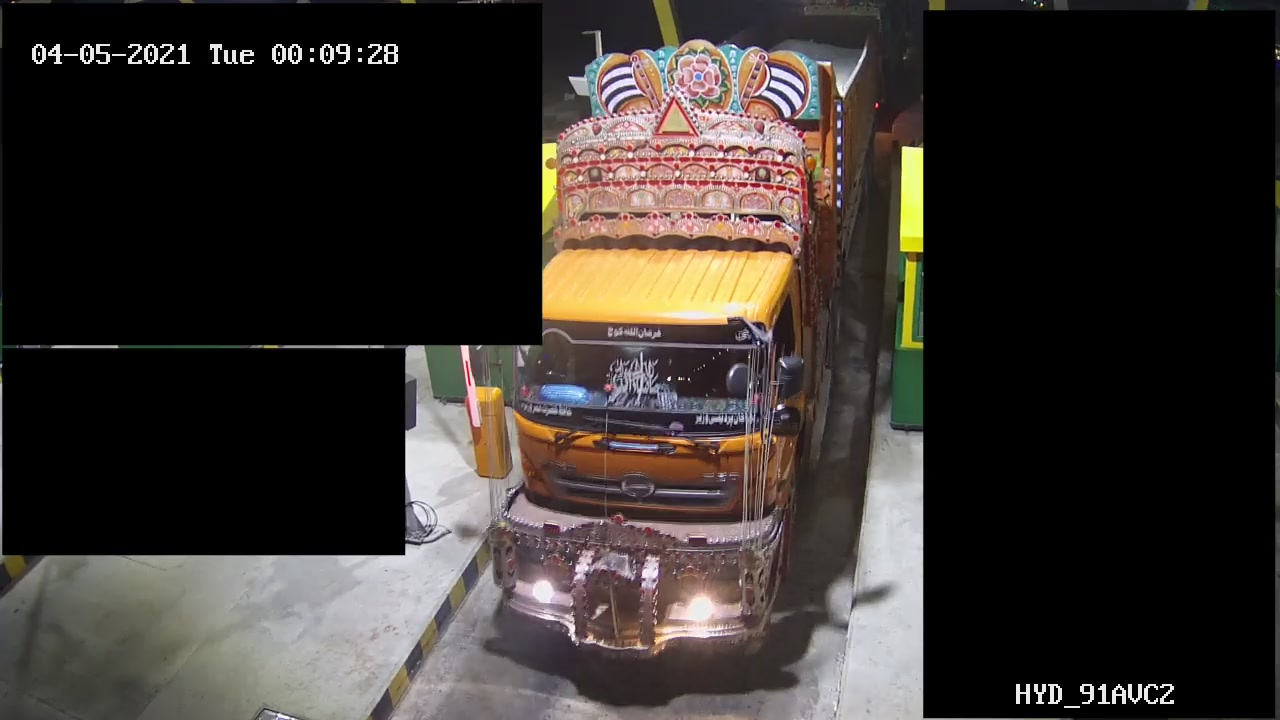F6: (488, 22, 886, 672)
